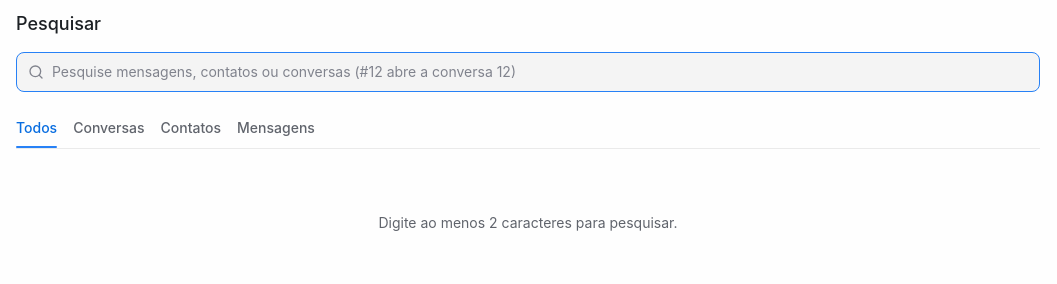
global search › shows the empty state and errors
The image size is (1057, 284).
Type "zz" into the field named "Pesquisar mensagens, contatos ou conversas" at (540, 72), box [52, 62, 1028, 82]
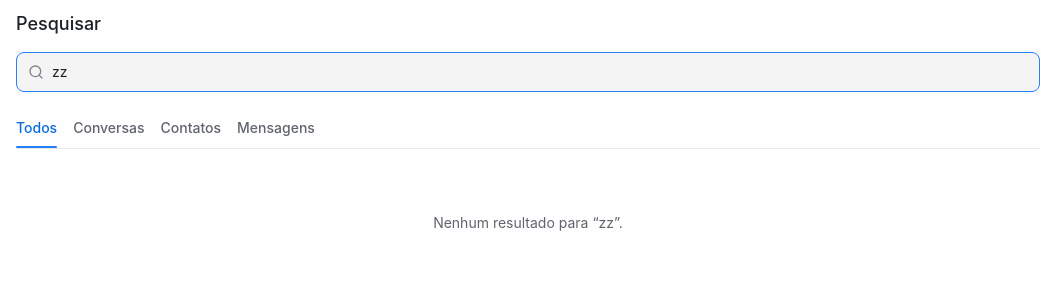
Expected: the text "Nenhum resultado para “zz”." is shown, [433, 214, 623, 231]
Type "z" into the field named "Pesquisar mensagens, contatos ou conversas" at (540, 72), box [52, 62, 1028, 82]
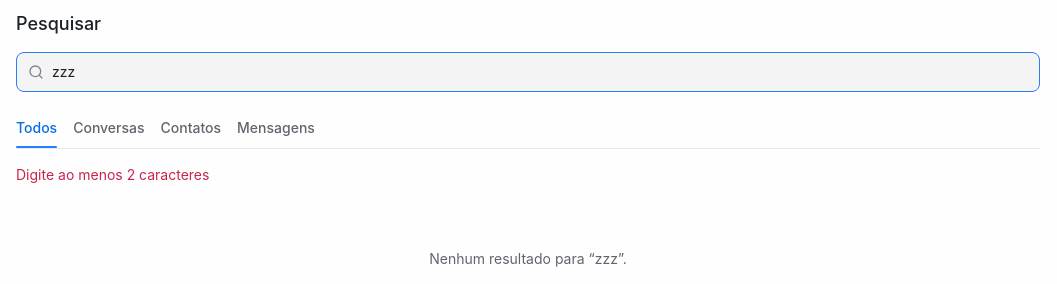
Expected: the message reads "Digite ao menos 2 caracteres", [16, 166, 209, 183]
